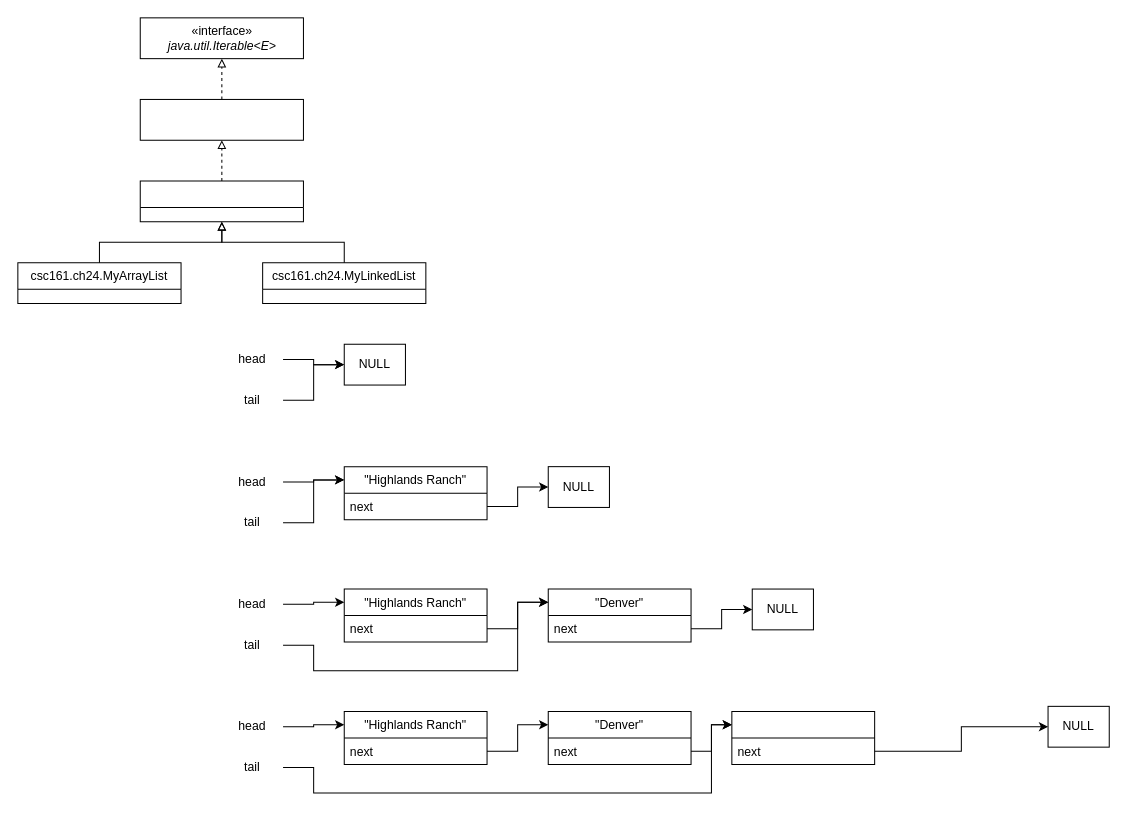
Some shapes in this 1127 by 819 pixel diagram are drawn without their labels. The box of each missing label's shape, as (x1, y1, x2, y2) in pixels:
"Loveland": (731, 710, 875, 764)
csc161.ch24.MyList: (139, 180, 303, 222)
«interface» java.util.Collection<E>: (139, 98, 303, 140)
